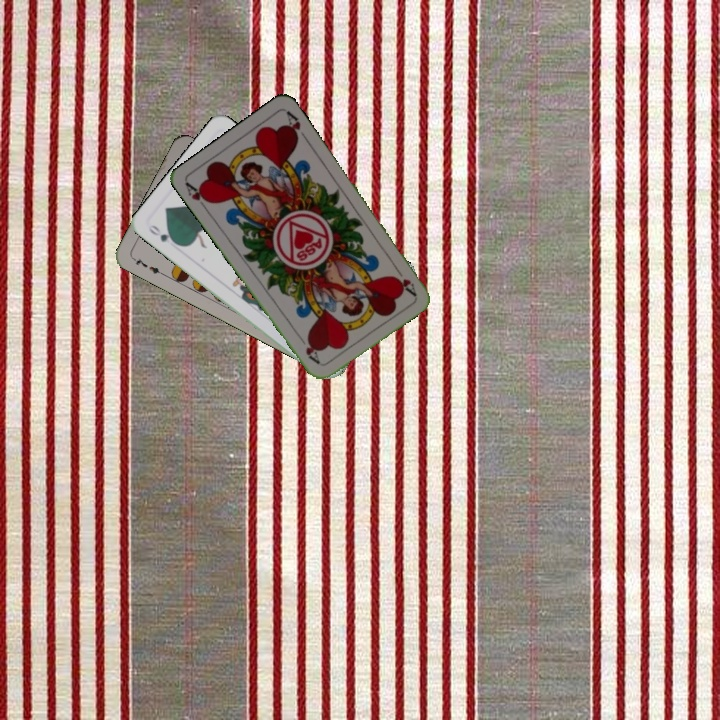E7: (128, 253, 166, 278)
GO: (144, 221, 181, 248)
HA: (181, 179, 214, 214), (390, 262, 418, 298)
